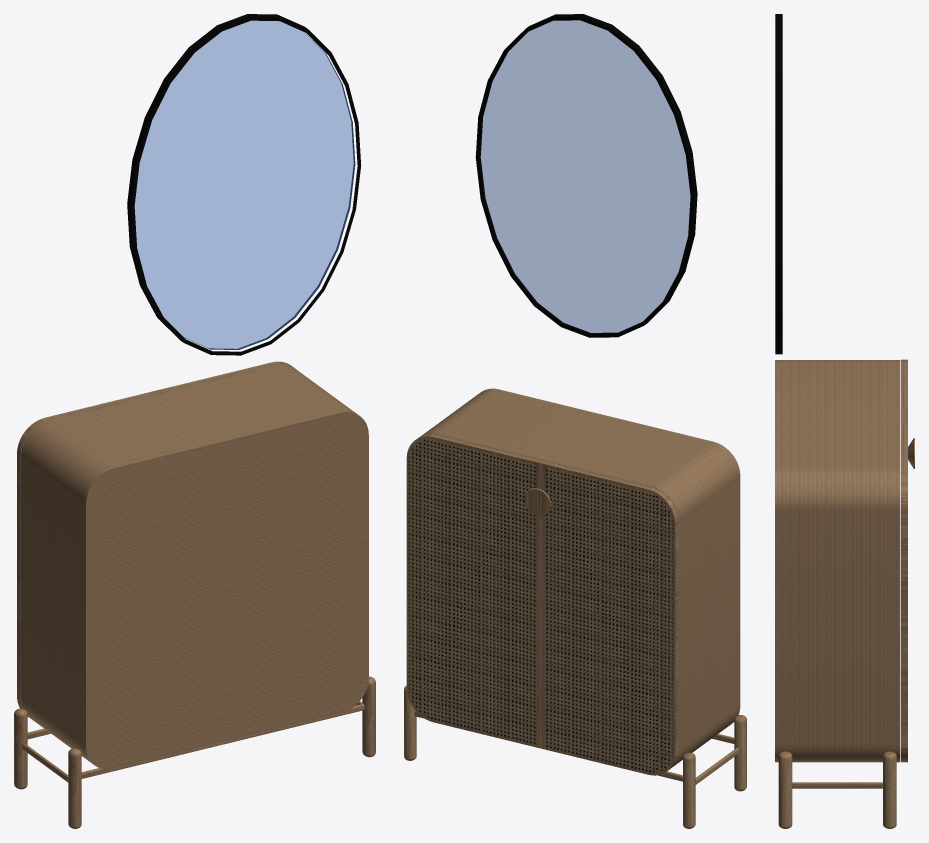
The model's file is Mirror with Table.glb.
3 renders of one model, left to right at view 1: azimuth 30°, elevation 25°; view 2: azimuth 150°, elevation 25°; view 3: azimuth 270°, elevation 25°, orthographic. The views are drawn at different scales.
Parts seen in each view (by area): view 1: object 16, object 17, Group#147 (×3), Group#42, Group#44; view 2: Group#42 (×2), object 17, object 16, Group#147 (×3); view 3: object 16, Group#42 (×2), object 17, Group#147 (×2), Group#47.
Boxes of the visible parts, bbox=[...] form: object 16: bbox=[21, 364, 368, 769]; object 17: bbox=[127, 14, 361, 355]; Group#147 (×3): bbox=[14, 676, 375, 828]; Group#42: bbox=[17, 390, 161, 717]; Group#44: bbox=[68, 703, 364, 780]; Group#42 (×2): bbox=[406, 434, 678, 775]; object 17: bbox=[475, 14, 697, 337]; object 16: bbox=[421, 388, 740, 766]; Group#147 (×3): bbox=[404, 686, 746, 828]; object 16: bbox=[775, 360, 900, 762]; Group#42 (×2): bbox=[901, 359, 907, 762]; object 17: bbox=[775, 14, 782, 354]; Group#147 (×2): bbox=[778, 751, 896, 828]; Group#47: bbox=[778, 782, 883, 788].
Bounding box in the file's own units: 0.9776 × 2.37 × 0.402.
Materials: 6 (3 with a texture image).
